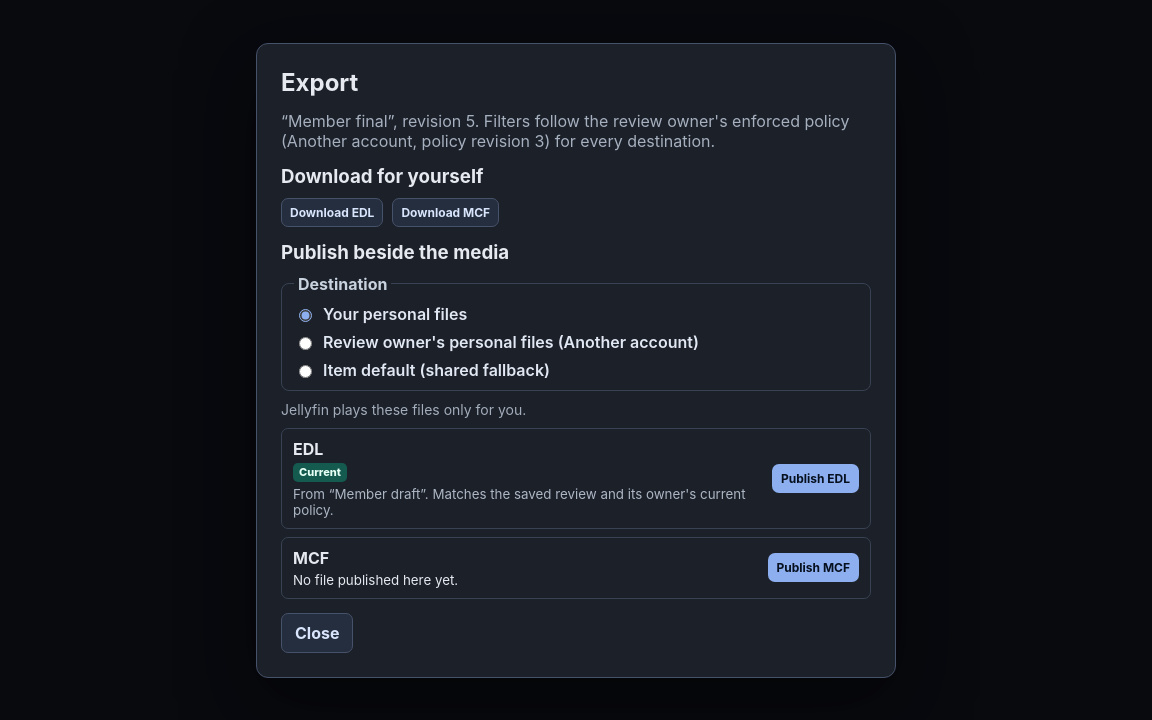
replaces nothing after a stale confirmation and asks again on retry
The width and height of the screenshot is (1152, 720).
Click the button "Publish EDL": x=815, y=478 top-left (772, 464), bottom-right (859, 492)
(page scrolled)
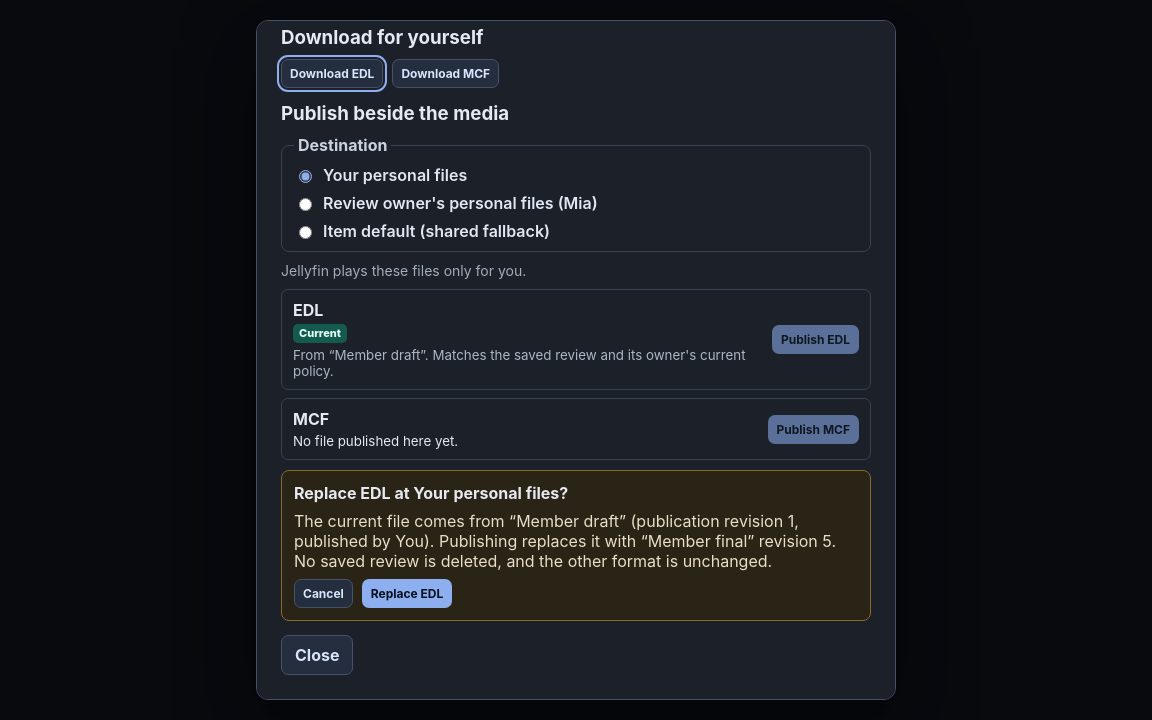
Click the button "Replace EDL": x=407, y=594 top-left (362, 579), bottom-right (452, 608)
(page scrolled)
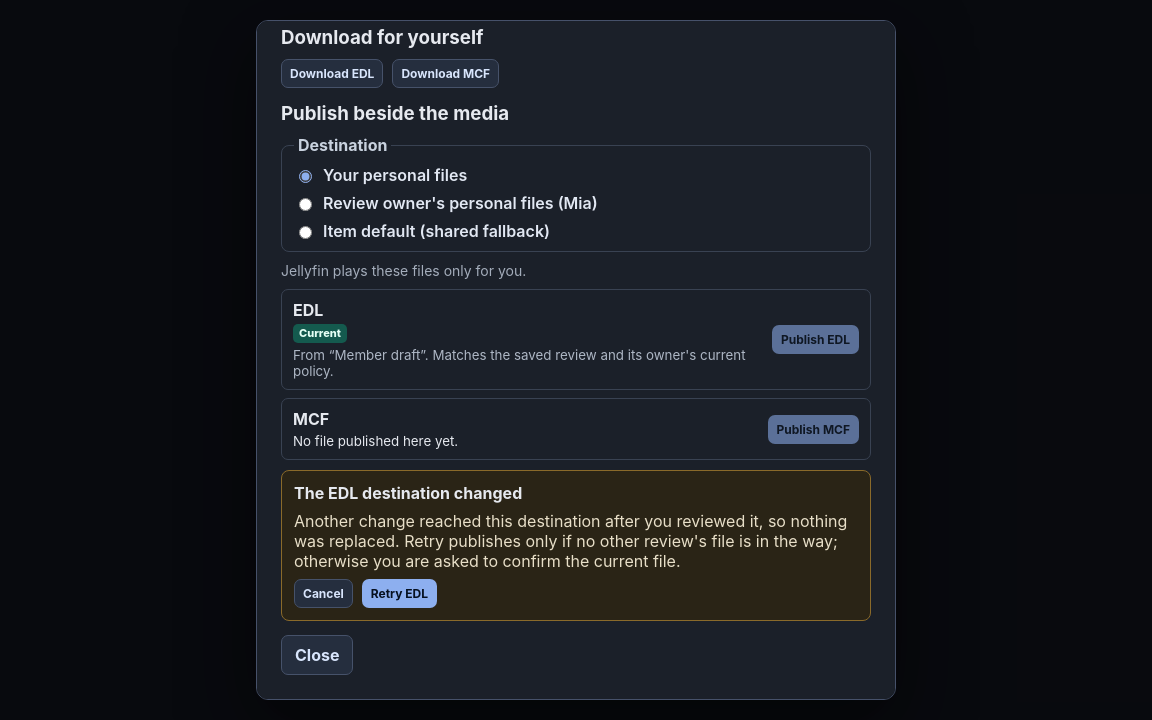
Result: the message named "Replacement changed" shows "nothing was replaced" at top-left (294, 511), bottom-right (847, 571)
Click the button "Retry EDL": x=399, y=594 top-left (362, 579), bottom-right (437, 608)
(page scrolled)
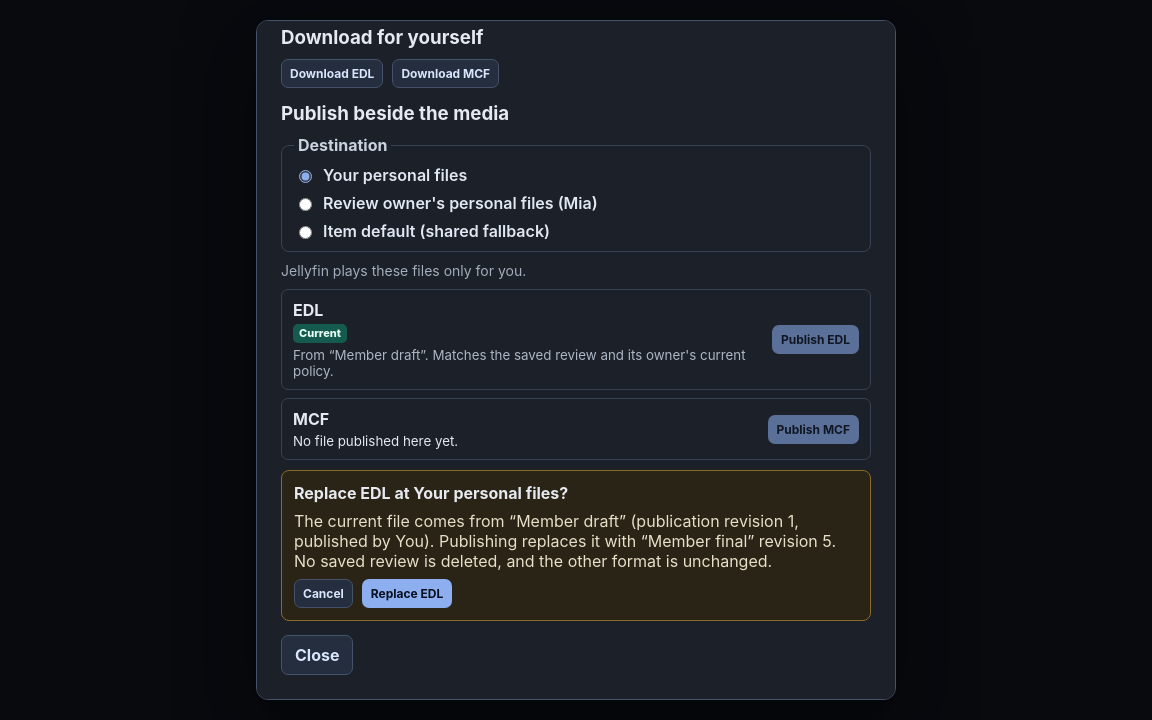
Result: the message named "Confirm replacement" is shown at top-left (281, 470), bottom-right (871, 621)
